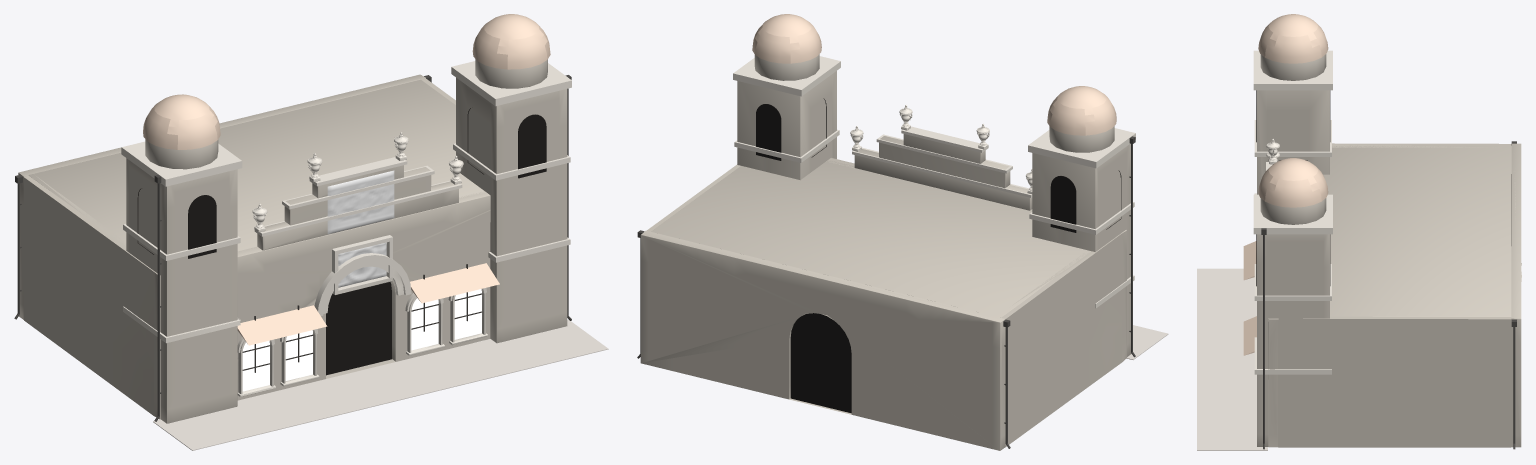
File: girard-gate.glb
3 views of the same model, side by side, from view 1: azimuth 30°, elevation 25°; view 2: azimuth 150°, elevation 25°; view 3: azimuth 270°, elevation 25° (orthographic). The views are drawn at different scales.
Parts seen in each view (by area): view 1: girard_wall, girard_floor, girard_trim, girard_roof, girard_shadow, girard_glass, merged_girard_trim, merged_girard_relief_girard-gate-tiles, detail_girard_pipe, merged_girard_relief_girard-cartouche, detail_girard_frame; view 2: girard_wall, girard_shadow, girard_trim, girard_roof, detail_girard_pipe, merged_girard_trim, girard_floor; view 3: girard_wall, girard_floor, girard_roof, girard_trim, detail_girard_pipe.
Part boxes in pixels (x1=…): girard_wall: x1=18, y1=59, x2=567, y2=423; girard_floor: x1=153, y1=320, x2=608, y2=450; girard_trim: x1=121, y1=61, x2=571, y2=352; girard_roof: x1=143, y1=14, x2=550, y2=345; girard_shadow: x1=137, y1=108, x2=546, y2=375; girard_glass: x1=242, y1=289, x2=481, y2=391; merged_girard_trim: x1=237, y1=132, x2=487, y2=396; merged_girard_relief_girard-gate-tiles: x1=327, y1=170, x2=394, y2=234; detail_girard_pipe: x1=14, y1=75, x2=571, y2=421; merged_girard_relief_girard-cartouche: x1=338, y1=242, x2=386, y2=287; detail_girard_frame: x1=242, y1=264, x2=482, y2=372; girard_wall: x1=640, y1=54, x2=1131, y2=450; girard_shadow: x1=756, y1=98, x2=1121, y2=413; girard_trim: x1=733, y1=56, x2=1135, y2=308; girard_roof: x1=752, y1=14, x2=1116, y2=135; detail_girard_pipe: x1=637, y1=136, x2=1135, y2=448; merged_girard_trim: x1=850, y1=105, x2=1032, y2=193; girard_floor: x1=1127, y1=325, x2=1168, y2=359; girard_wall: x1=1257, y1=54, x2=1521, y2=447; girard_floor: x1=1197, y1=268, x2=1267, y2=450; girard_roof: x1=1243, y1=14, x2=1328, y2=355; girard_trim: x1=1253, y1=50, x2=1332, y2=374; detail_girard_pipe: x1=1261, y1=141, x2=1516, y2=449.
Bounding box in the file's own units: 21.27 × 14.75 × 16.03.
